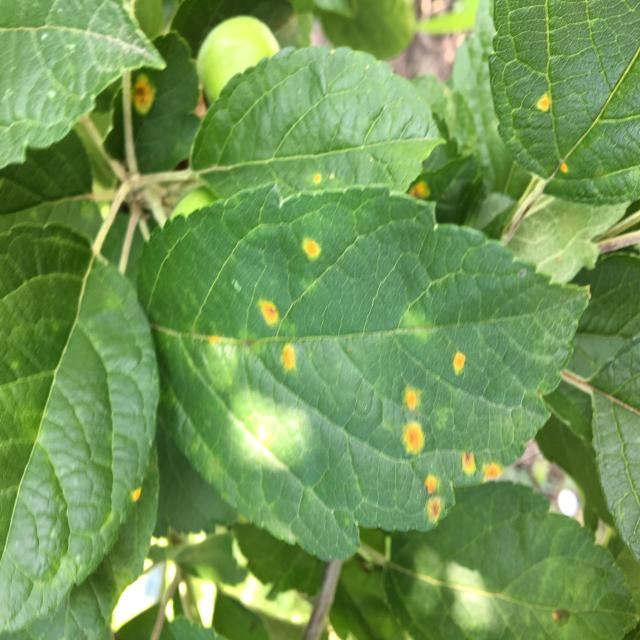Rust: (272, 331, 302, 388), (128, 71, 160, 120), (291, 226, 330, 266), (443, 339, 474, 389), (400, 168, 434, 209), (528, 84, 558, 130), (396, 376, 428, 419), (398, 419, 426, 458), (414, 465, 448, 495), (480, 456, 506, 495), (421, 498, 453, 527), (256, 296, 284, 328), (451, 446, 477, 477), (555, 154, 577, 185), (308, 163, 327, 197), (126, 476, 144, 502)
